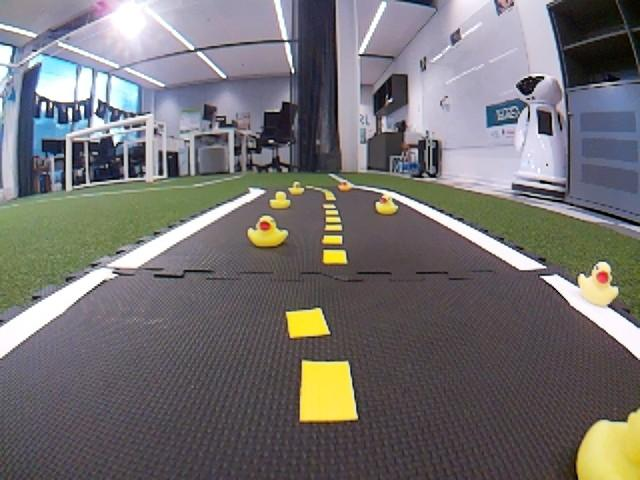Duckies: (576, 402, 638, 480), (579, 262, 617, 306), (248, 216, 287, 248), (376, 195, 399, 215), (270, 193, 291, 208), (290, 181, 305, 194), (340, 181, 352, 191)
